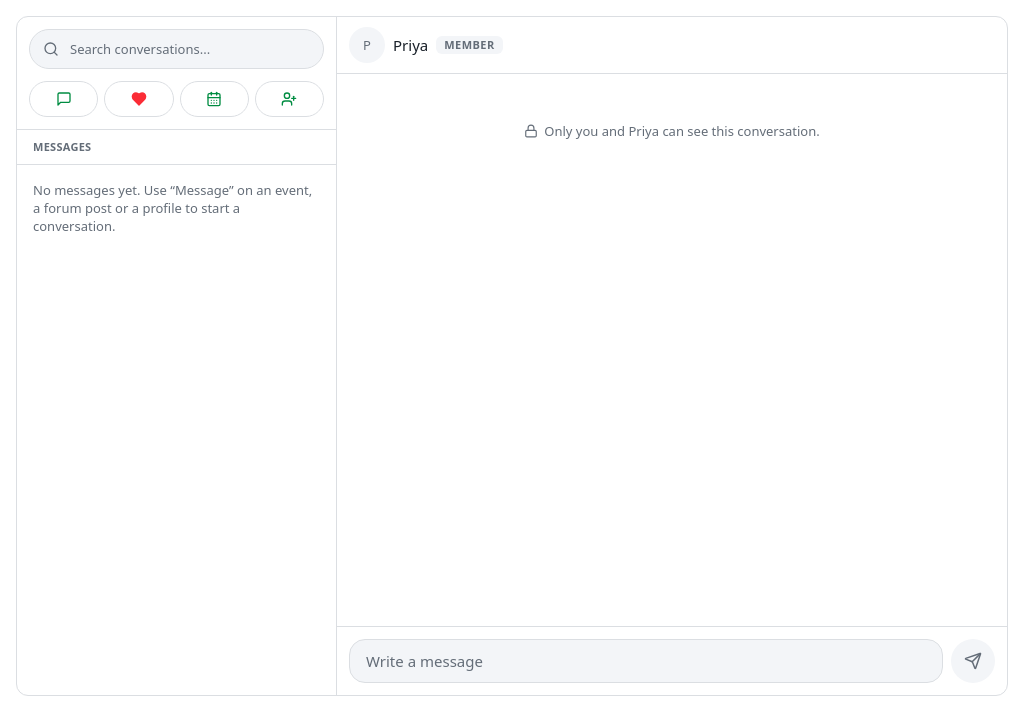
Test: sending a message › shows the message and clears the box before the server answers
The image size is (1025, 713).
Type "Hello" into the text box named "Message Priya".
click(646, 661); type("Hello")  # box [349,639,943,683]
Then press Enter
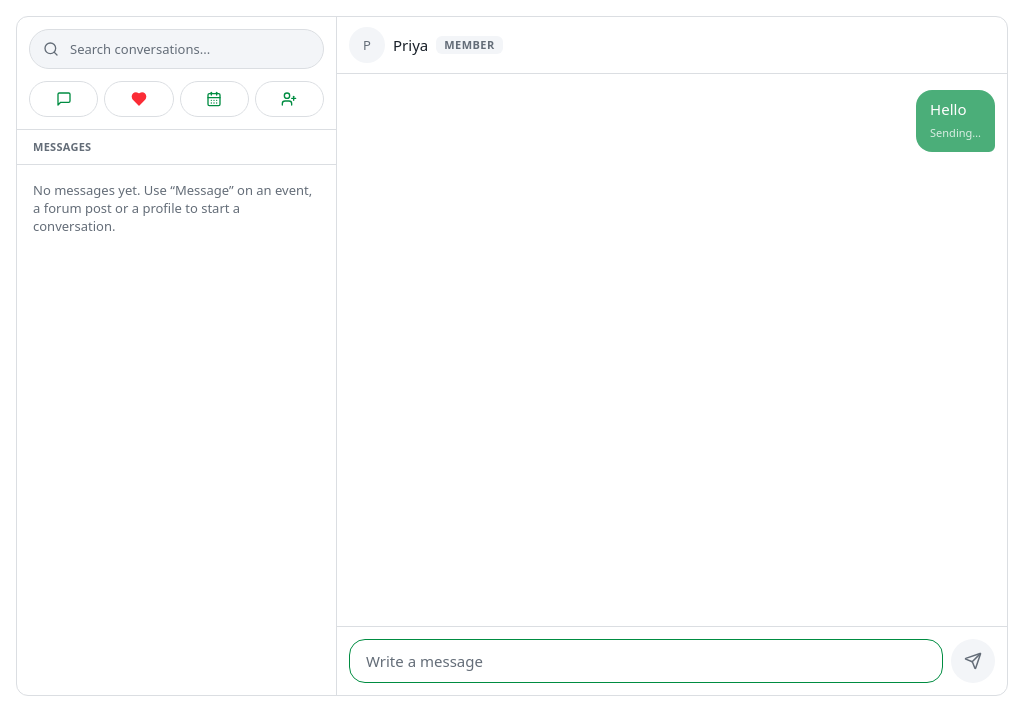
Expected: the text "Hello" is shown, [930,99,966,119]
Expected: the text "Sending…" is shown, [930,122,981,144]
